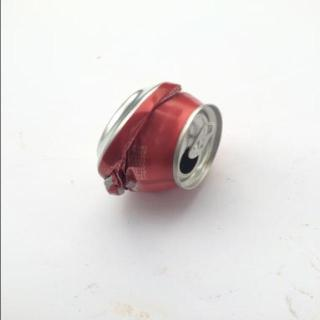Anorganik: (88, 80, 228, 200)
